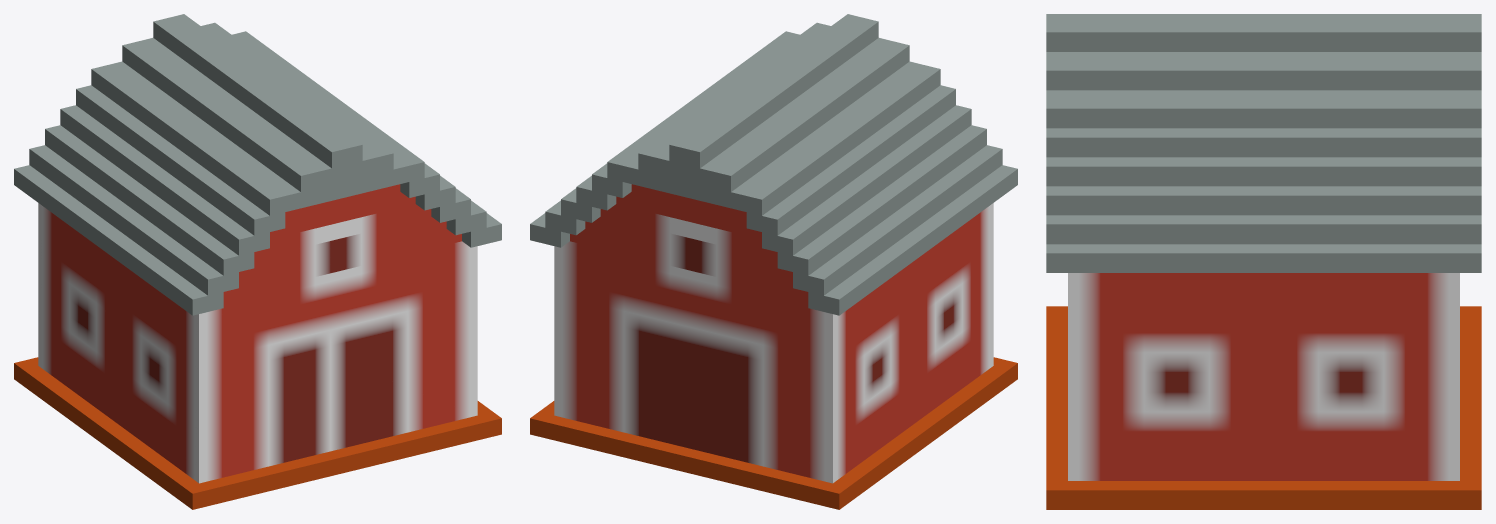
Rendered from Granero1.fbx.
3 views of the same model, side by side, from view 1: azimuth 30°, elevation 25°; view 2: azimuth 150°, elevation 25°; view 3: azimuth 270°, elevation 25° (orthographic). The views are drawn at different scales.
Visible parts, largest first — view 1: Granero1; view 2: Granero1; view 3: Granero1.
Boxes of the visible parts, bbox=[...] form: Granero1: bbox=[14, 14, 501, 509]; Granero1: bbox=[530, 14, 1017, 509]; Granero1: bbox=[1046, 14, 1481, 509].
Size of the model in its own units: 20 by 20 by 20.
